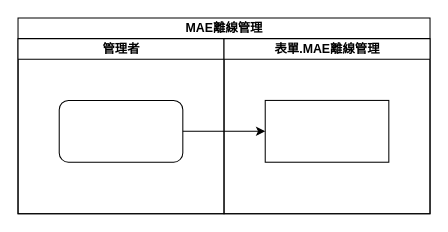
Image size: 448x232. Some labels were removed from this diagram. The shapes that lost their labels are listed below. From the top down, each one's centre as x and y in pixels, then its label:
At point (120, 130): "駐留記錄 點擊按鈕.放棄同步".
At point (326, 130): "刪除上傳資料".
